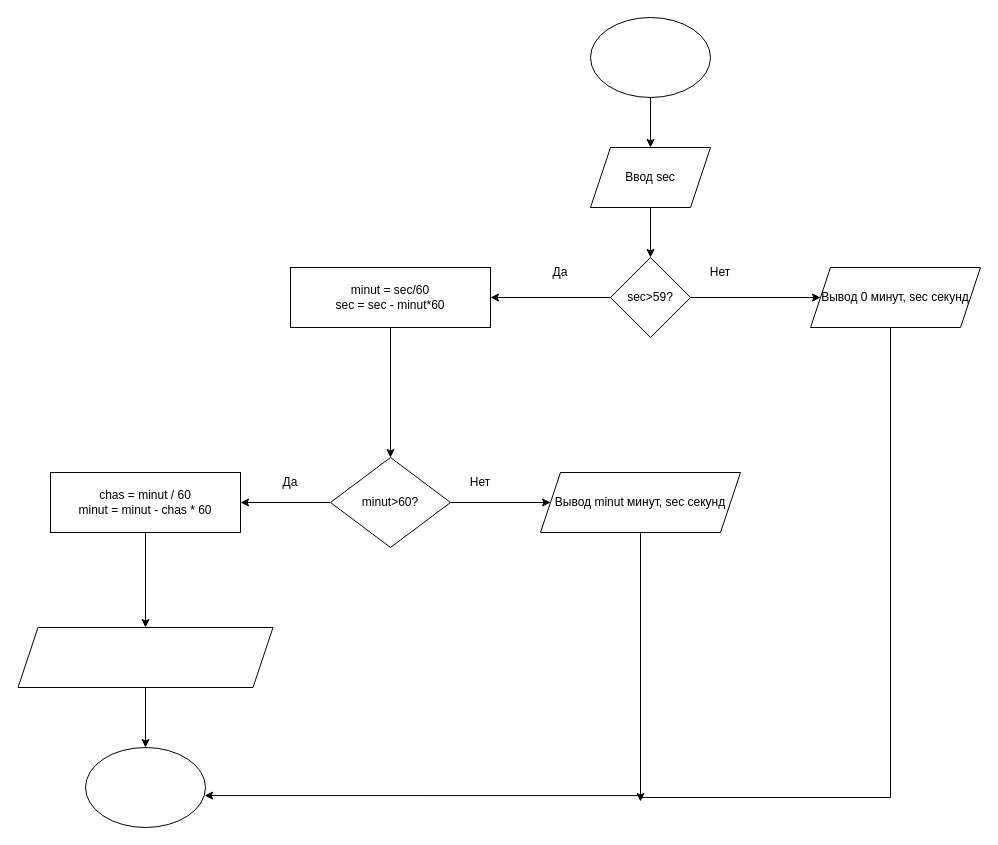
Some shapes in this 998 by 845 pixel diagram are drawn without their labels. Here are the shapes that lost their labels. From the top down, the box of each, then its label:
(590, 16, 710, 98): Начало
(17, 626, 273, 688): Вывод chas час, minut минут, sec секунд
(84, 746, 206, 828): Конец
